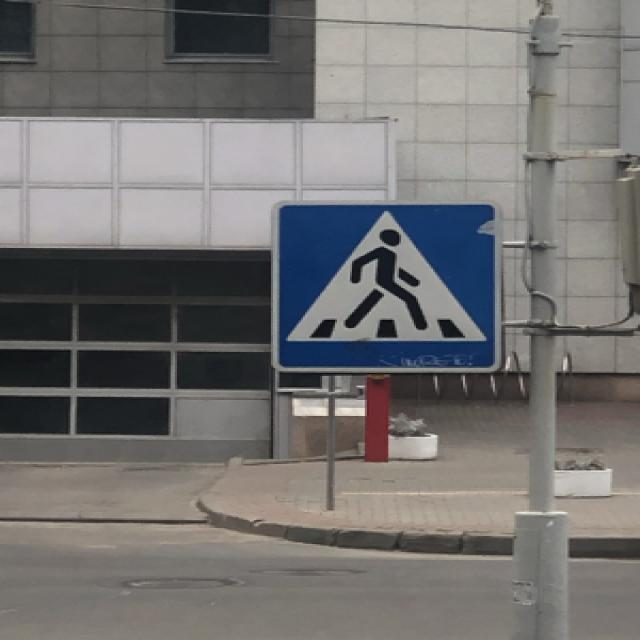crosswalk_sign: (270, 198, 503, 376)
